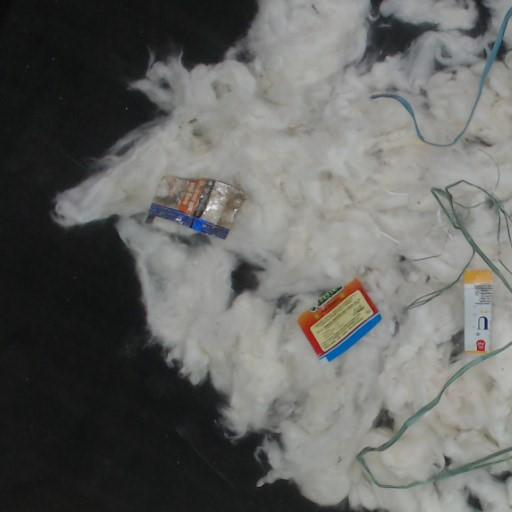conveyor belt: (366, 15, 434, 63), (469, 0, 489, 36), (232, 263, 255, 294), (371, 0, 381, 15)
cotton: (53, 0, 511, 511)
packet: (298, 279, 381, 360), (146, 176, 243, 239), (464, 270, 492, 353)
thread: (356, 341, 511, 488), (371, 8, 511, 147), (408, 180, 511, 309)
